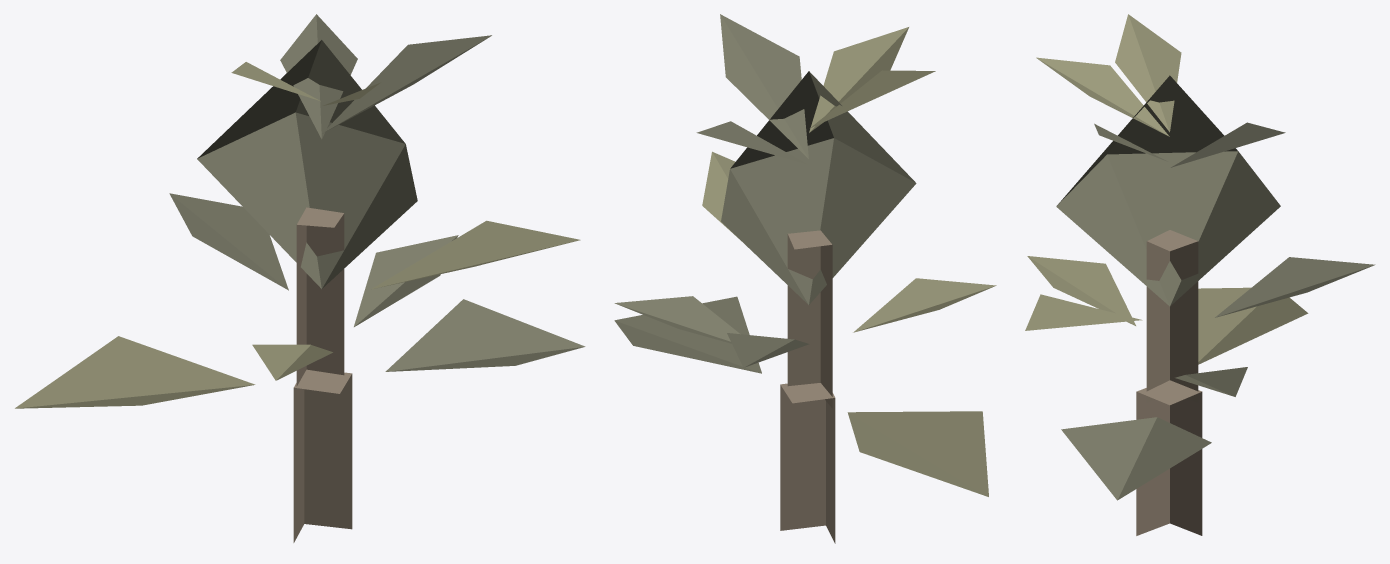
Rendered from shui.luwei@seedling__winter.glb.
The picture shows the model from 3 angles, left to right: view 1: azimuth 30°, elevation 25°; view 2: azimuth 150°, elevation 25°; view 3: azimuth 270°, elevation 25°; orthographic projection. The views are drawn at different scales.
Parts seen in each view (by area): view 1: shui.luwei@seedling__winter; view 2: shui.luwei@seedling__winter; view 3: shui.luwei@seedling__winter.
Boxes of the visible parts, left/top/right/bottom form: shui.luwei@seedling__winter: left=15, top=14, right=585, bottom=542; shui.luwei@seedling__winter: left=614, top=14, right=996, bottom=543; shui.luwei@seedling__winter: left=1025, top=14, right=1375, bottom=535.
Size of the model in its own units: 0.2442 by 0.2443 by 0.1649.
